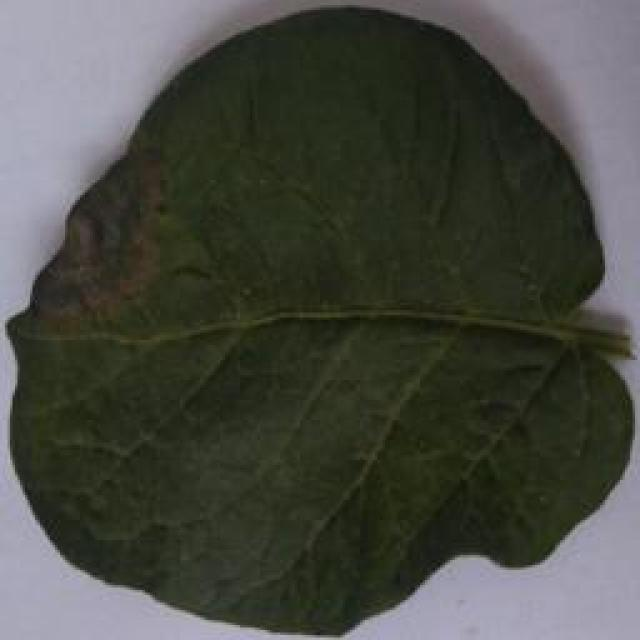Potato_Late_Blight: (2, 0, 632, 627)
